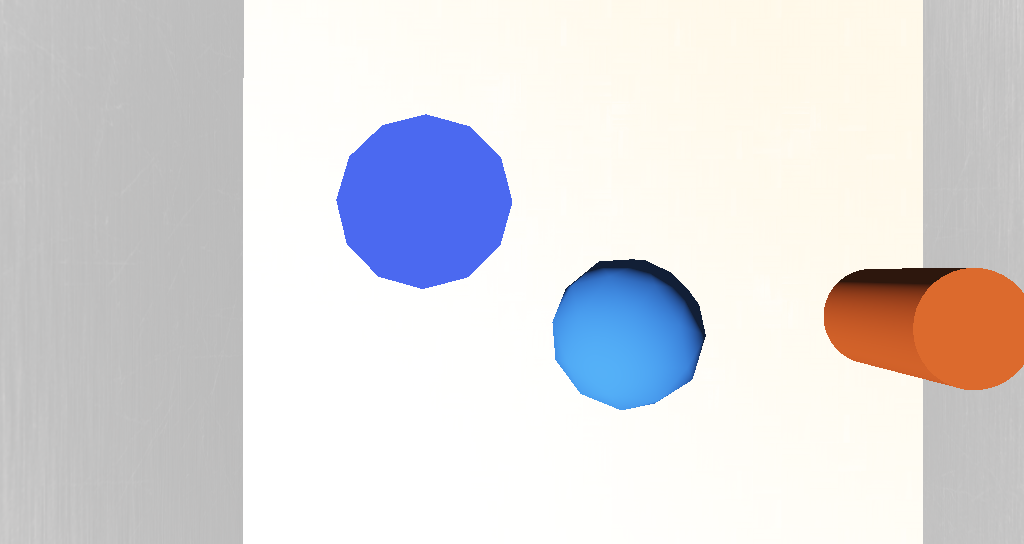cone: (616, 270, 677, 303)
cylinder: (404, 224, 472, 272)
sphere: (485, 265, 552, 308)
